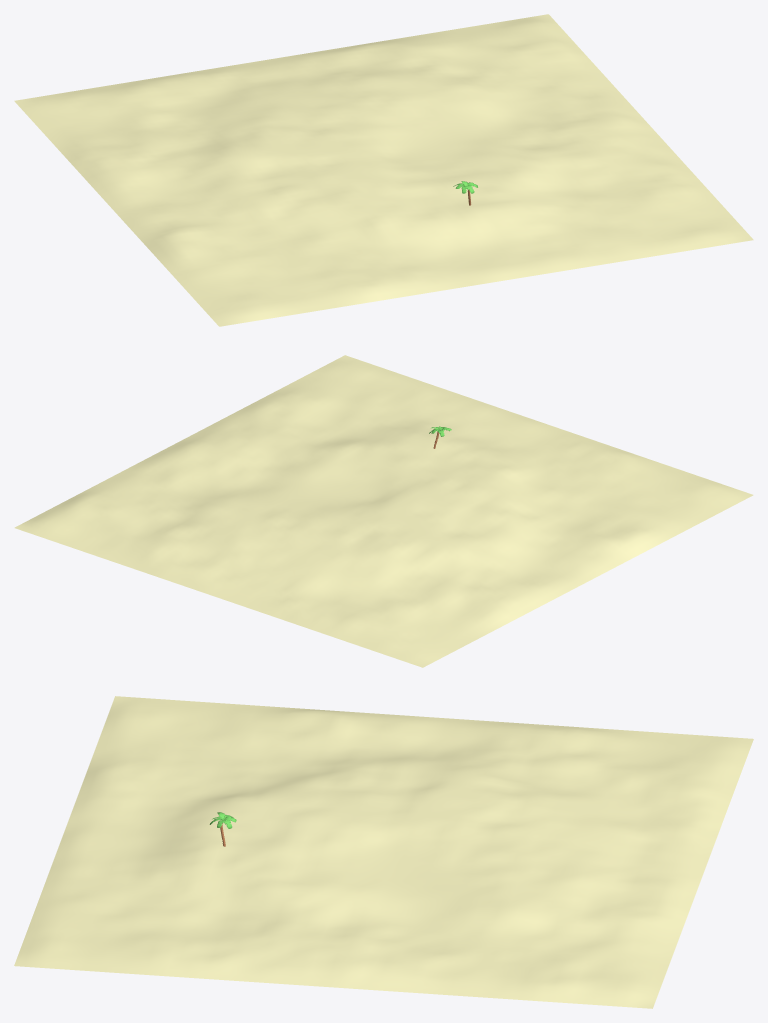
The model's file is PalmTree.gltf.
3 views of the same model, one above another, from view 1: azimuth 30°, elevation 25°; view 2: azimuth 150°, elevation 25°; view 3: azimuth 270°, elevation 25° (orthographic). The views are drawn at different scales.
Parts seen in each view (by area): view 1: Landscape; view 2: Landscape; view 3: Landscape.
Boxes of the visible parts, bbox=[...] form: Landscape: bbox=[14, 14, 753, 326]; Landscape: bbox=[14, 355, 753, 667]; Landscape: bbox=[14, 696, 753, 1008].
Size of what is drawn, in the model's own units: 78.89 by 4.86 by 78.89.
